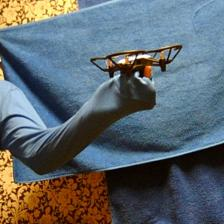drone: (89, 43, 184, 75)
